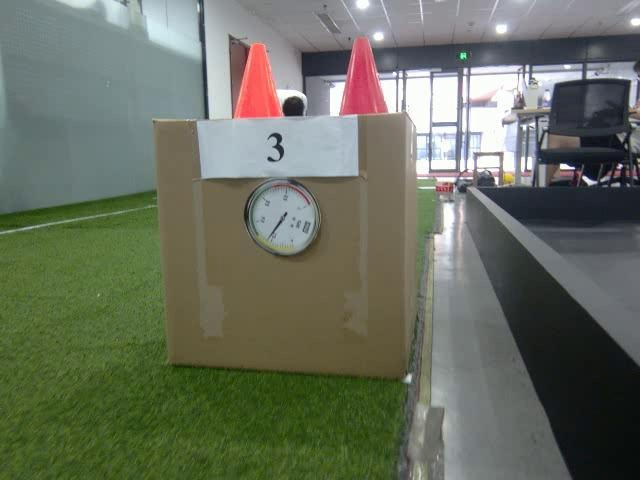3: (264, 130, 286, 164)
Dashboard: (243, 179, 321, 260)
orange_barrel: (228, 40, 284, 119)
red_barrel: (338, 35, 390, 115)
ssi: (302, 217, 310, 233)
